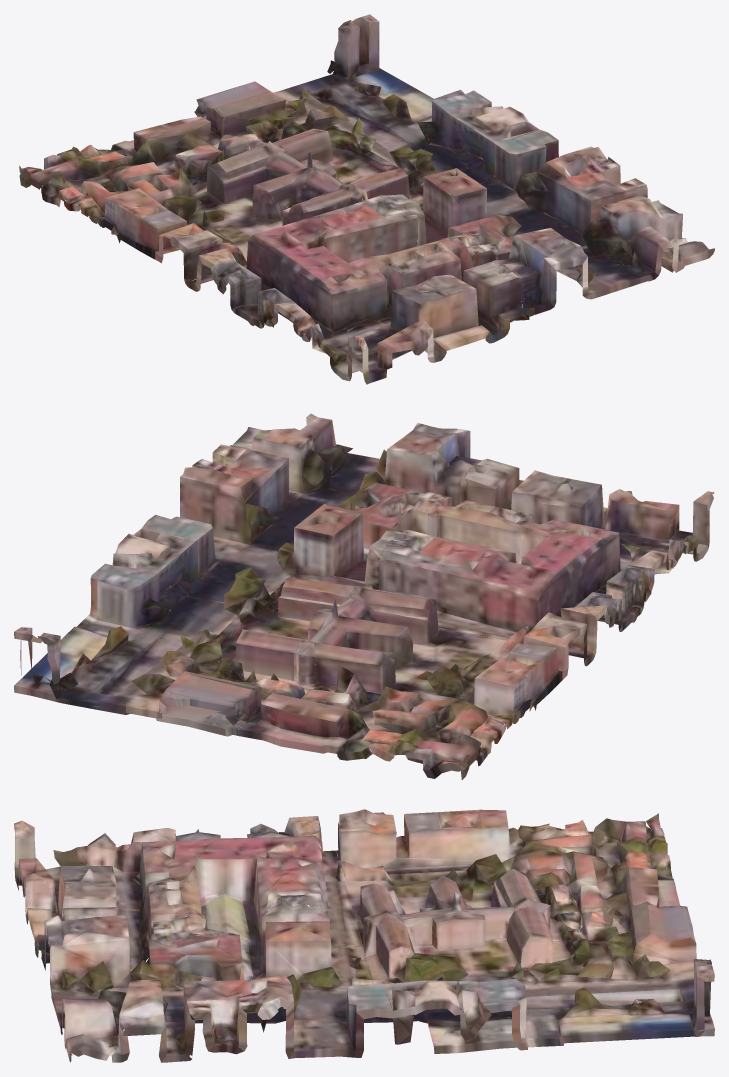
3 views of the same model, one above another, from view 1: azimuth 30°, elevation 25°; view 2: azimuth 150°, elevation 25°; view 3: azimuth 270°, elevation 25° (orthographic). The views are drawn at different scales.
Visible parts, largest first — view 1: Mesh_0; view 2: Mesh_0; view 3: Mesh_0.
Boxes of the visible parts, <box> form: Mesh_0: <box>19,14,714,384</box>; Mesh_0: <box>14,413,714,779</box>; Mesh_0: <box>14,809,714,1062</box>.
Size of the model in its own units: 274 by 42.3 by 330.
2 materials, 2 textured.
